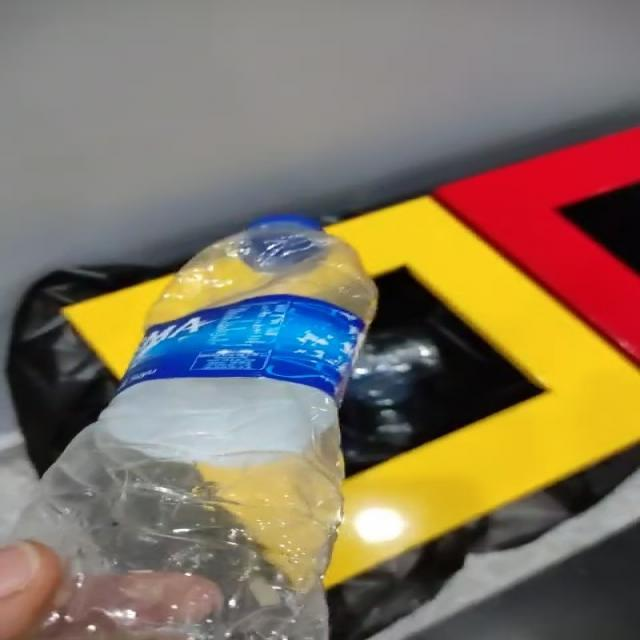Plastic: (15, 216, 377, 640)
